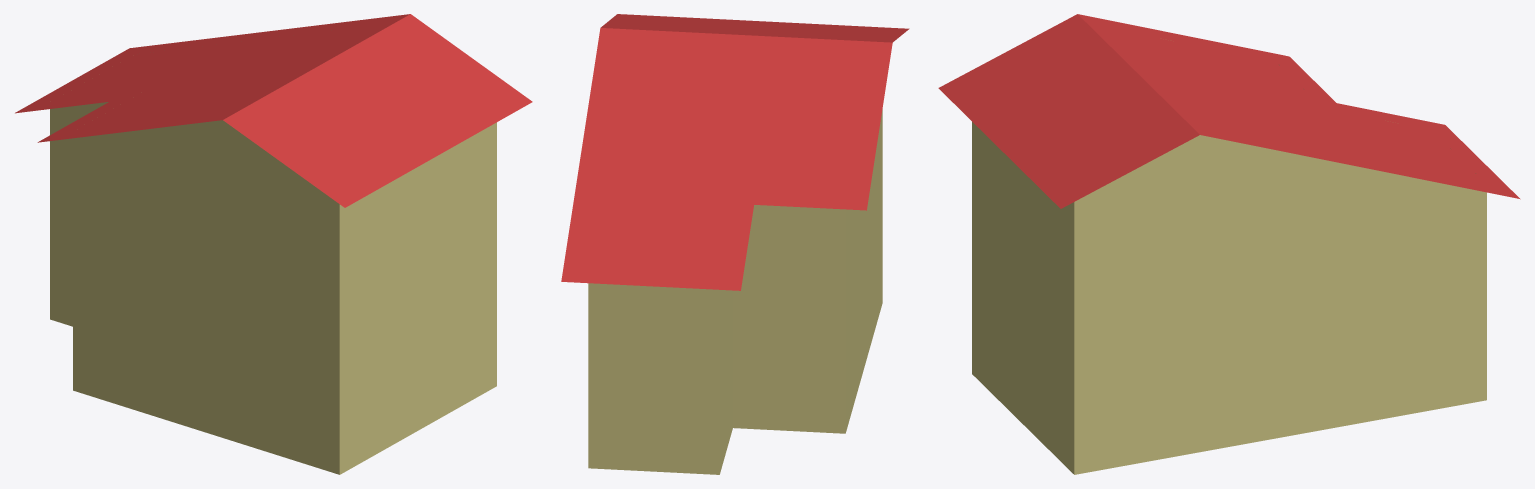
3 views of the same model, side by side, from view 1: azimuth 30°, elevation 25°; view 2: azimuth 150°, elevation 25°; view 3: azimuth 270°, elevation 25° (orthographic). The views are drawn at different scales.
Size of the model in its own units: 12.78 by 17.05 by 10.63.
